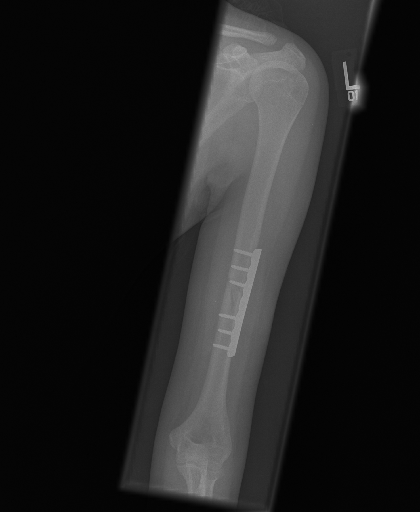implant: (213, 245, 265, 360)
